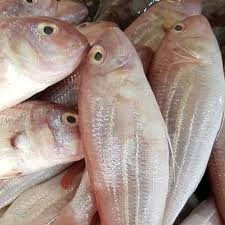Ikan Kerisi: (67, 18, 180, 225), (147, 7, 225, 176), (1, 13, 90, 99)
